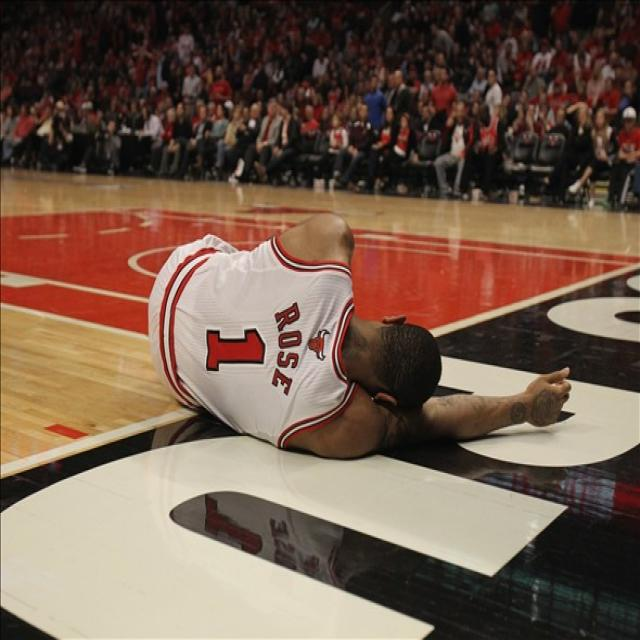10-: (3, 12, 636, 208)
down: (137, 203, 584, 464)
